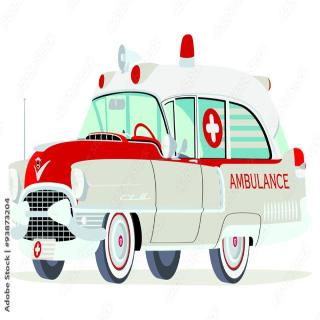Ambulance: (10, 28, 308, 279)
